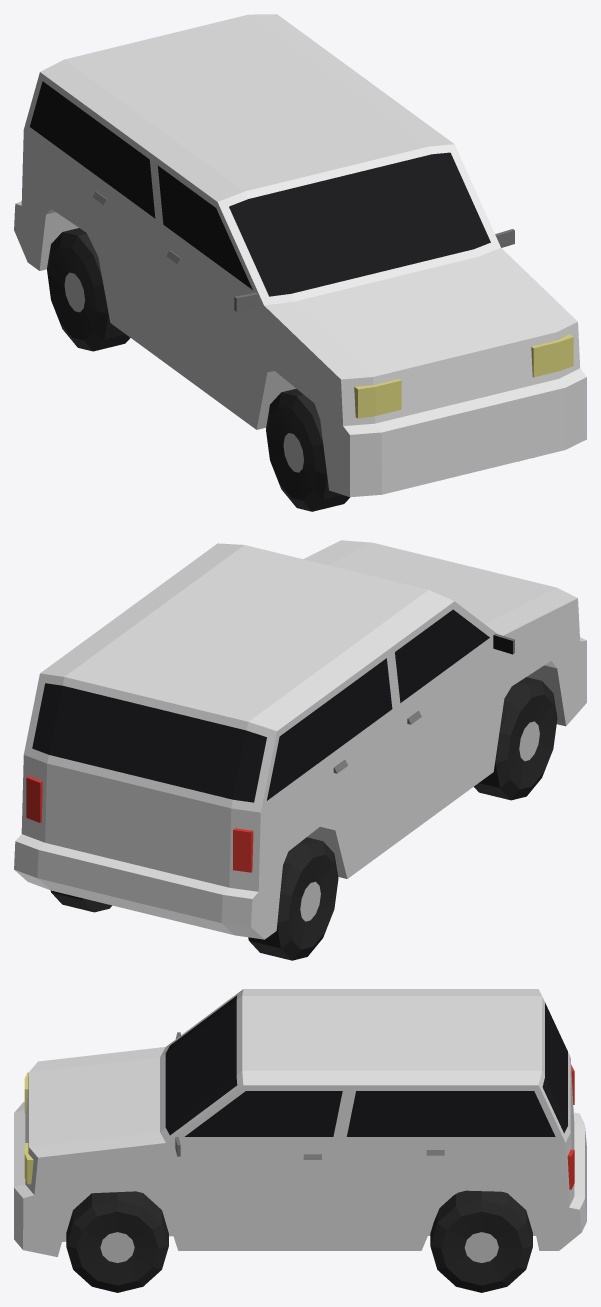
The model's file is SUV_02.fbx.
3 renders of one model, top to bottom at view 1: azimuth 30°, elevation 25°; view 2: azimuth 150°, elevation 25°; view 3: azimuth 270°, elevation 25°, orthographic. The views are drawn at different scales.
Visible parts, largest first — view 1: SUV_02; view 2: SUV_02; view 3: SUV_02.
Part boxes in pixels (x1,y1,x2,y2): SUV_02: (14, 14, 586, 511); SUV_02: (14, 540, 586, 960); SUV_02: (14, 989, 586, 1292).
Size of the model in its own units: 3.42 by 3.01 by 7.33.
